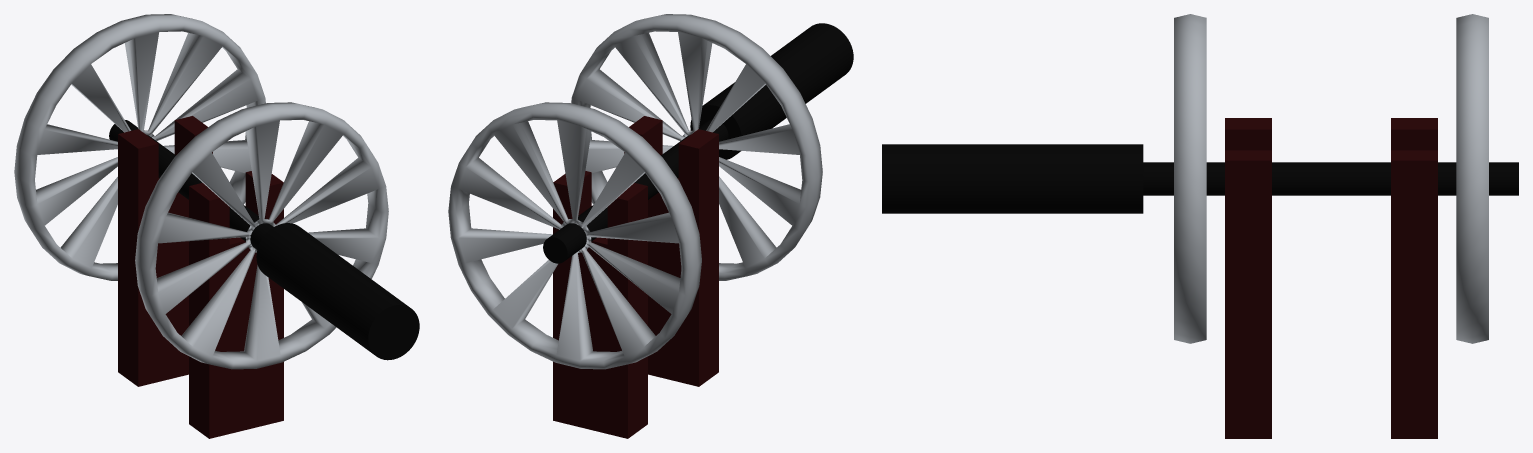
The model's file is Activador.fbx.
The picture shows the model from 3 angles, left to right: view 1: azimuth 30°, elevation 25°; view 2: azimuth 150°, elevation 25°; view 3: azimuth 270°, elevation 25°; orthographic projection. The views are drawn at different scales.
Visible parts, largest first — view 1: Rueda, Base, Mango; view 2: Rueda, Base, Mango; view 3: Base, Mango, Rueda.
Part boxes in pixels (<box>): Rueda: <box>14,14,388,369</box>; Base: <box>118,116,283,438</box>; Mango: <box>109,120,419,360</box>; Rueda: <box>448,14,822,369</box>; Base: <box>553,116,718,438</box>; Mango: <box>543,23,853,263</box>; Base: <box>1225,118,1437,438</box>; Mango: <box>882,144,1518,213</box>; Rueda: <box>1174,14,1488,343</box>.
Size of the model in its own units: 202 by 261 by 388.
